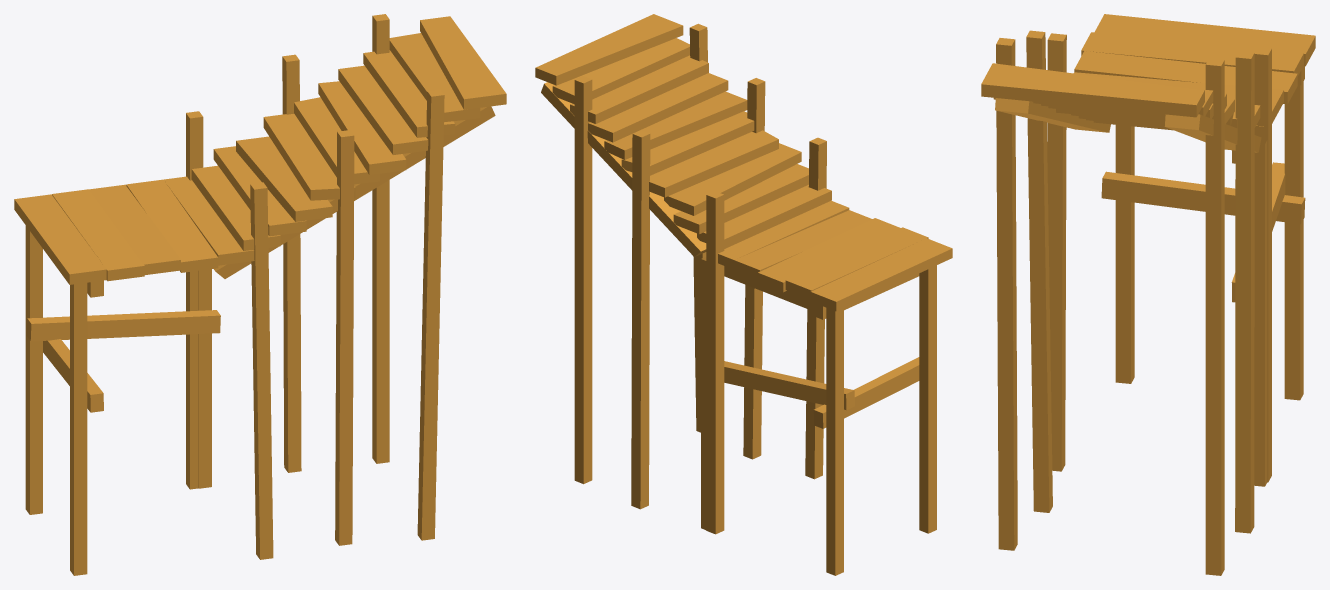
Rendered from stair2.fbx.
The picture shows the model from 3 angles, left to right: view 1: azimuth 30°, elevation 25°; view 2: azimuth 150°, elevation 25°; view 3: azimuth 270°, elevation 25°; orthographic projection. The views are drawn at different scales.
Parts seen in each view (by area): view 1: MERDIVEN; view 2: MERDIVEN; view 3: MERDIVEN.
Part boxes in pixels (box(x1,y1,x2,y2)): MERDIVEN: box(14, 14, 506, 575); MERDIVEN: box(535, 14, 952, 575); MERDIVEN: box(981, 14, 1315, 575).
Bounding box in the file's own units: 1548 × 1556 × 925.
